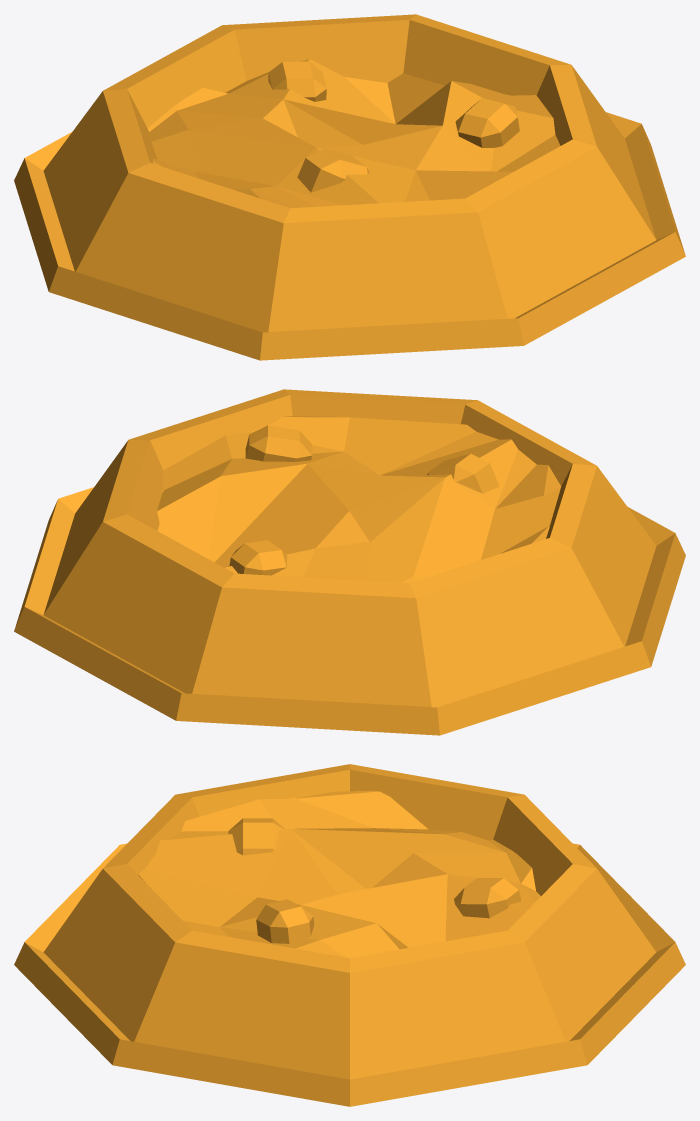
Rendered from SM_Bowl_Cat_B_Full.fbx.
3 renders of one model, top to bottom at view 1: azimuth 30°, elevation 25°; view 2: azimuth 150°, elevation 25°; view 3: azimuth 270°, elevation 25°, orthographic. The views are drawn at different scales.
Parts seen in each view (by area): view 1: SM_Bowl_Cat_B_Full; view 2: SM_Bowl_Cat_B_Full; view 3: SM_Bowl_Cat_B_Full.
Boxes of the visible parts, bbox=[...] form: SM_Bowl_Cat_B_Full: bbox=[14, 14, 685, 360]; SM_Bowl_Cat_B_Full: bbox=[14, 389, 685, 735]; SM_Bowl_Cat_B_Full: bbox=[14, 764, 685, 1106].
Size of the model in its own units: 0.2 by 0.0366 by 0.2.
